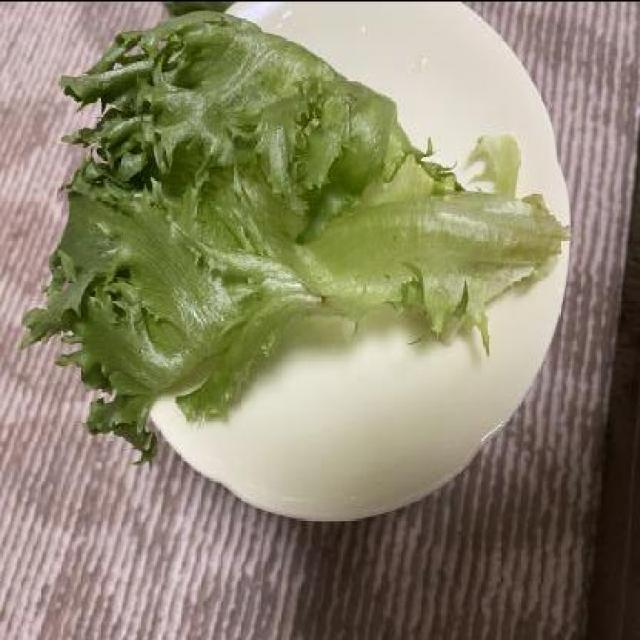Lettuce: (34, 14, 576, 456)
